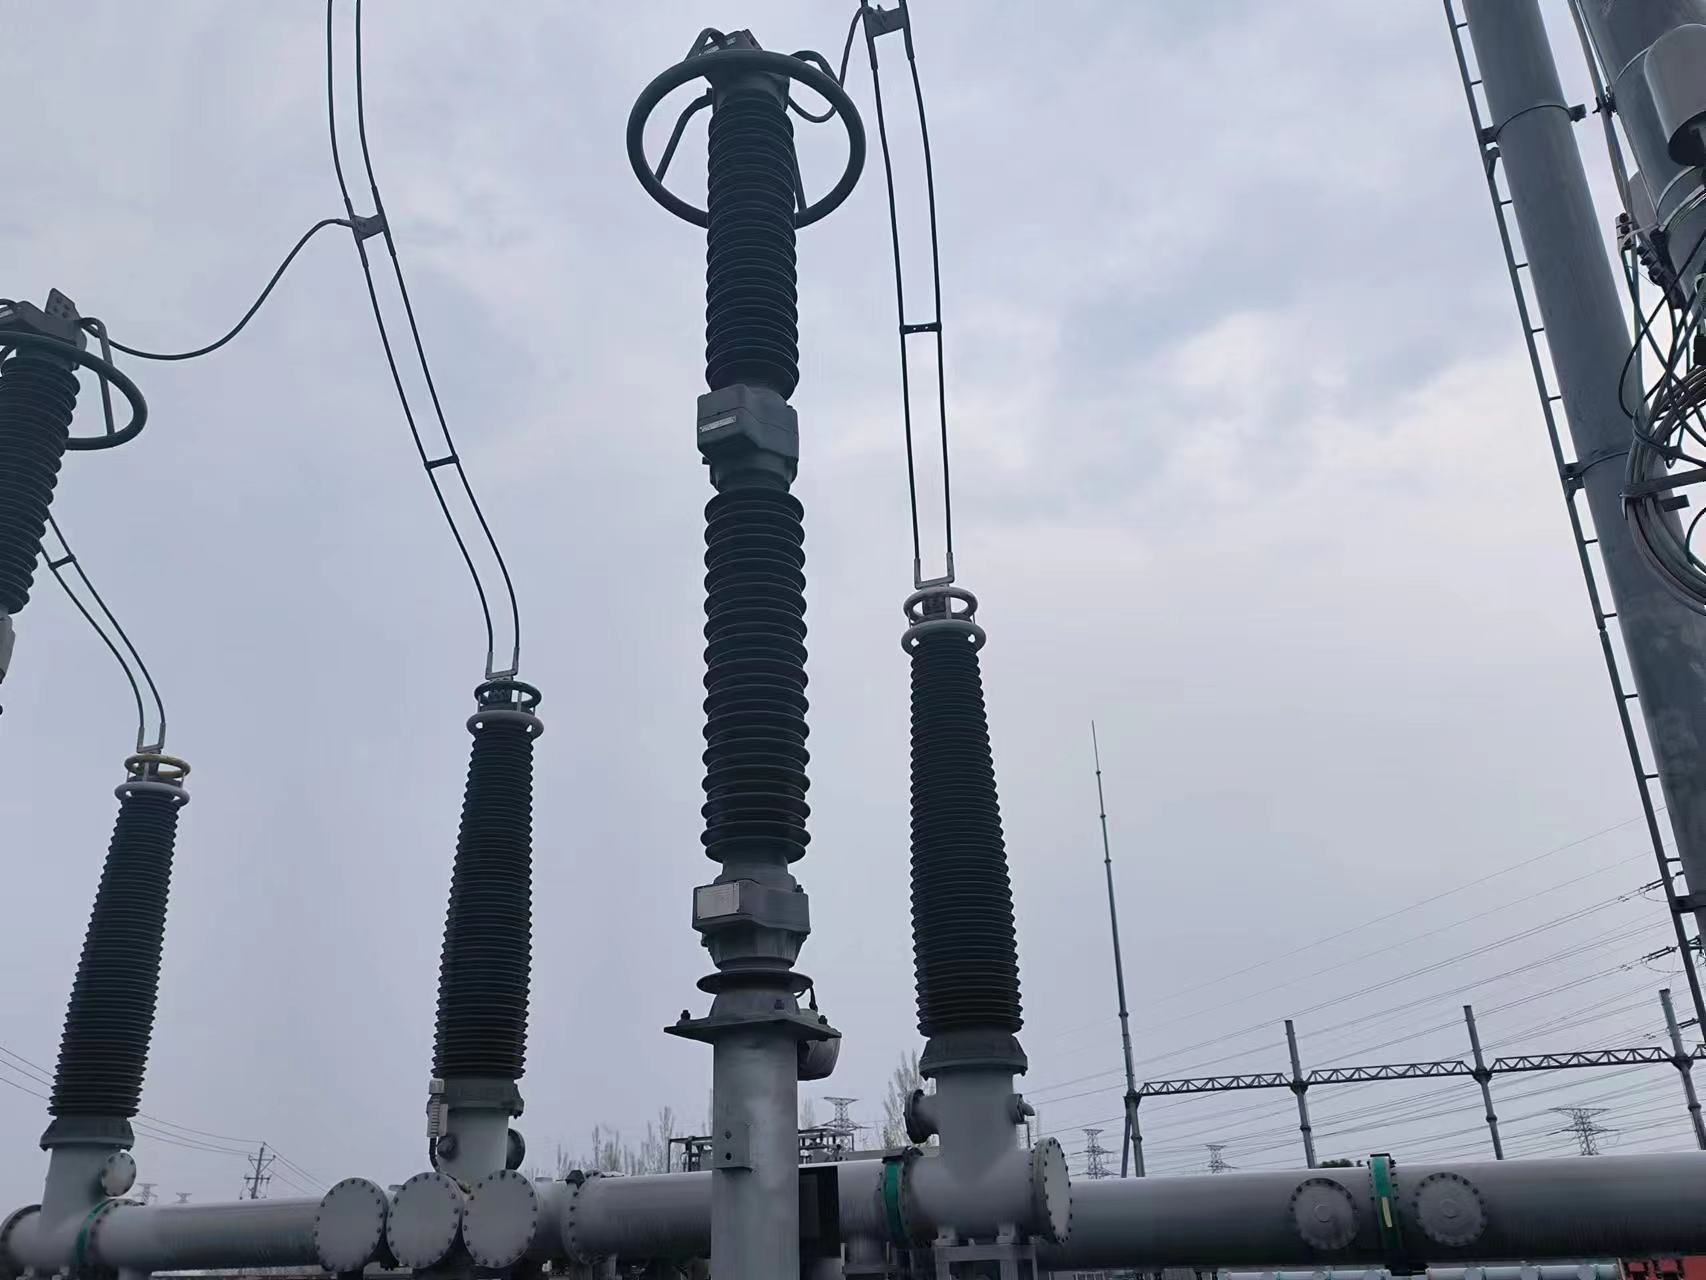Arrester: (622, 30, 871, 885)
Voltage transformer: (893, 590, 1028, 1074), (36, 752, 192, 1154), (425, 674, 544, 1115)
